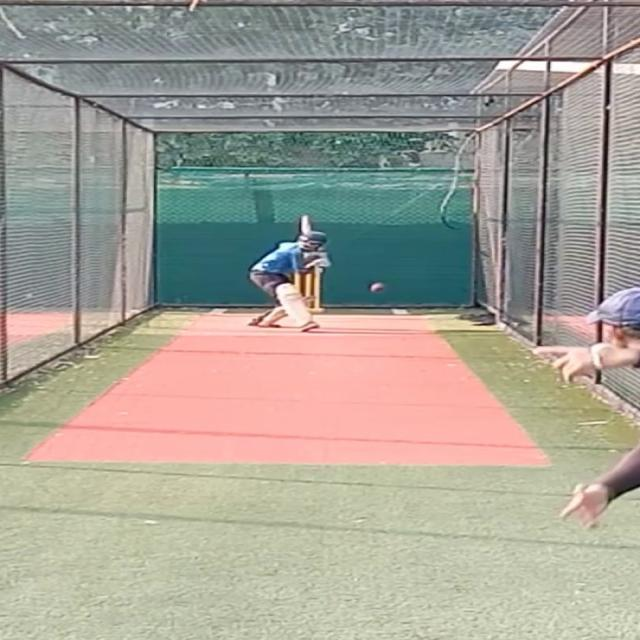ball: (371, 281, 390, 292)
stump: (295, 273, 324, 314)
